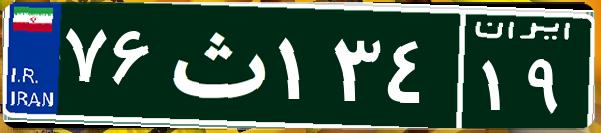1: (273, 28, 330, 110), (475, 38, 525, 113)
3: (330, 28, 385, 110)
4: (385, 28, 445, 110)
6: (110, 28, 158, 105)
7: (57, 26, 110, 107)
9: (525, 38, 570, 115)
ث: (158, 15, 273, 115)
